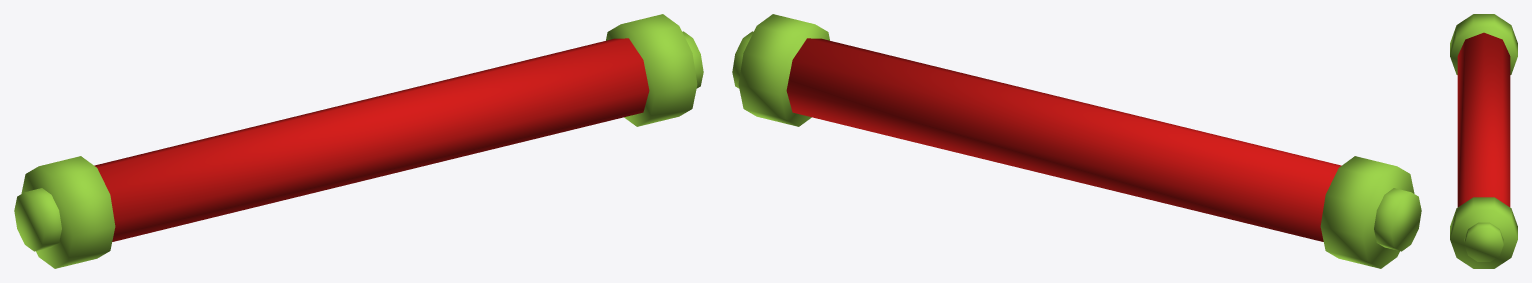
Rendered from NoteObject.fbx.
The picture shows the model from 3 angles, left to right: view 1: azimuth 30°, elevation 25°; view 2: azimuth 150°, elevation 25°; view 3: azimuth 270°, elevation 25°; orthographic projection. The views are drawn at different scales.
Visible parts, largest first — view 1: 円柱; view 2: 円柱; view 3: 円柱.
Part boxes in pixels (x1,y1,x2,y2): 円柱: [14, 14, 703, 268]; 円柱: [732, 14, 1421, 268]; 円柱: [1450, 14, 1517, 268].
Size of the model in its own units: 10.17 by 1.34 by 1.41.
